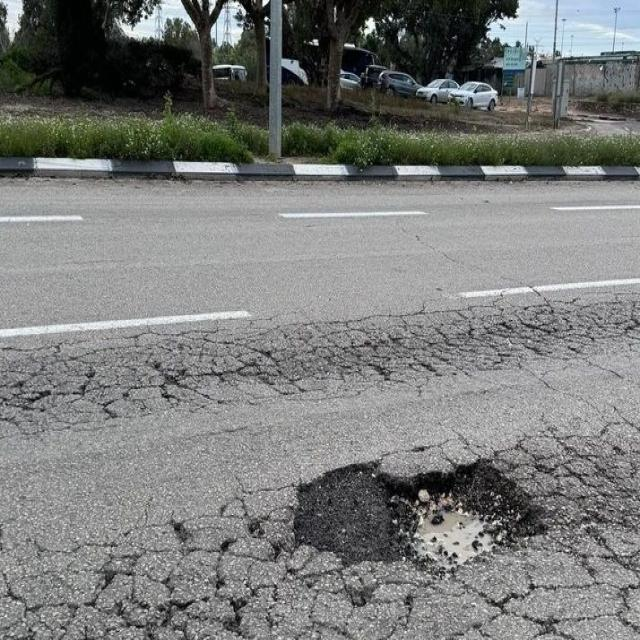major_pothole: (288, 448, 556, 580)
